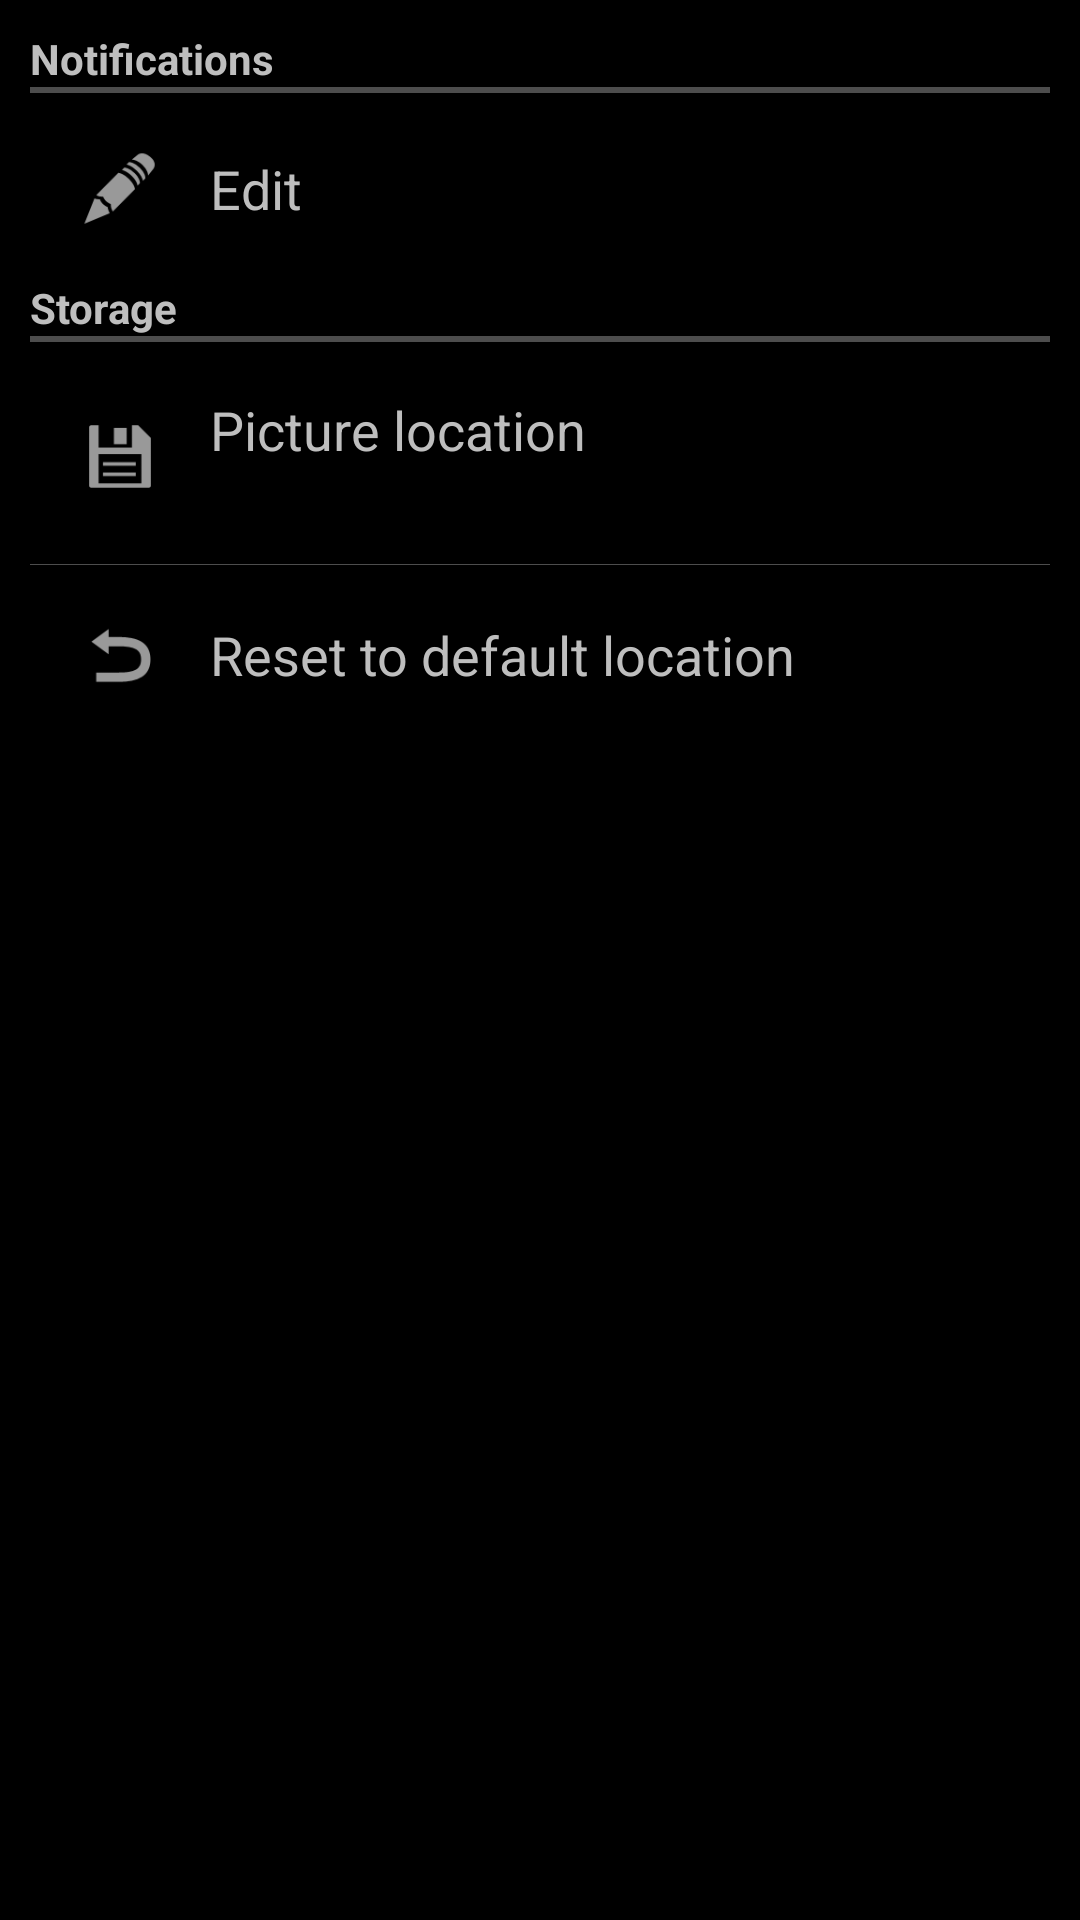

Screen size 1080px x 1920px. Icon name, then its center in pixels as (x,y):
revert: (121,655)
save: (120,456)
